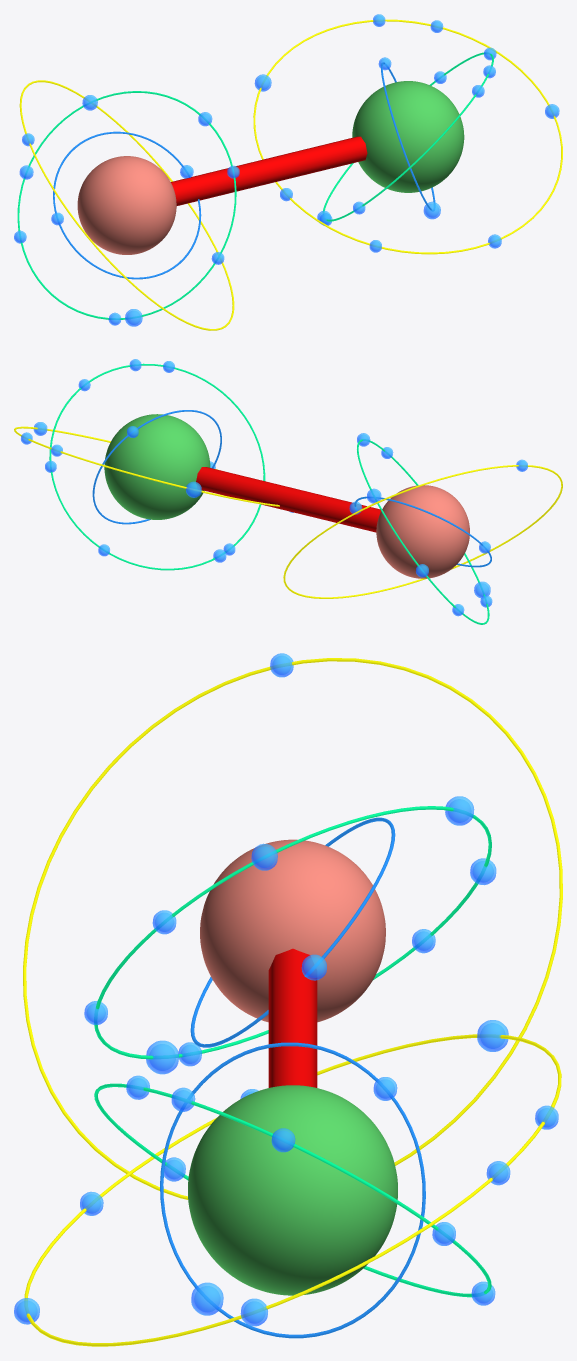
Rendered from NaCl.glb.
The picture shows the model from 3 angles, top to bottom: view 1: azimuth 30°, elevation 25°; view 2: azimuth 150°, elevation 25°; view 3: azimuth 270°, elevation 25°; orthographic projection. The views are drawn at different scales.
Visible parts, largest first — view 1: Cl, Na, object 65, object 50, object 24, object 7, object 2, object 33, object 28; view 2: Cl, Na, object 65, object 24, object 33, object 50, object 7, object 28, object 2; view 3: Cl, Na, object 65, object 24, object 50, object 28, object 7, object 33, object 2, object 13, object 30.
Part boxes in pixels (x1=…): Cl: x1=352, y1=81, x2=464, y2=192; Na: x1=77, y1=156, x2=176, y2=254; object 65: x1=171, y1=136, x2=367, y2=205; object 50: x1=253, y1=19, x2=562, y2=254; object 24: x1=19, y1=80, x2=234, y2=330; object 7: x1=17, y1=91, x2=236, y2=319; object 2: x1=53, y1=131, x2=201, y2=279; object 33: x1=323, y1=52, x2=493, y2=221; object 28: x1=381, y1=62, x2=435, y2=210; Cl: x1=104, y1=414, x2=210, y2=519; Na: x1=376, y1=485, x2=469, y2=578; object 65: x1=196, y1=467, x2=380, y2=532; object 24: x1=283, y1=465, x2=562, y2=598; object 33: x1=49, y1=363, x2=265, y2=570; object 50: x1=14, y1=426, x2=279, y2=506; object 7: x1=357, y1=439, x2=489, y2=624; object 28: x1=92, y1=410, x2=221, y2=524; object 2: x1=354, y1=496, x2=491, y2=567; Cl: x1=188, y1=1085, x2=397, y2=1295; Na: x1=200, y1=839, x2=385, y2=1022; object 65: x1=268, y1=948, x2=317, y2=1087; object 24: x1=23, y1=658, x2=562, y2=1199; object 50: x1=24, y1=1034, x2=561, y2=1346; object 28: x1=160, y1=1042, x2=425, y2=1338; object 7: x1=94, y1=806, x2=491, y2=1059; object 33: x1=94, y1=1083, x2=491, y2=1297; object 2: x1=190, y1=817, x2=395, y2=1047; object 13: x1=146, y1=1040, x2=178, y2=1074; object 30: x1=191, y1=1282, x2=223, y2=1315.
Size of the model in its own units: 9.4 by 3.54 by 4.5.
